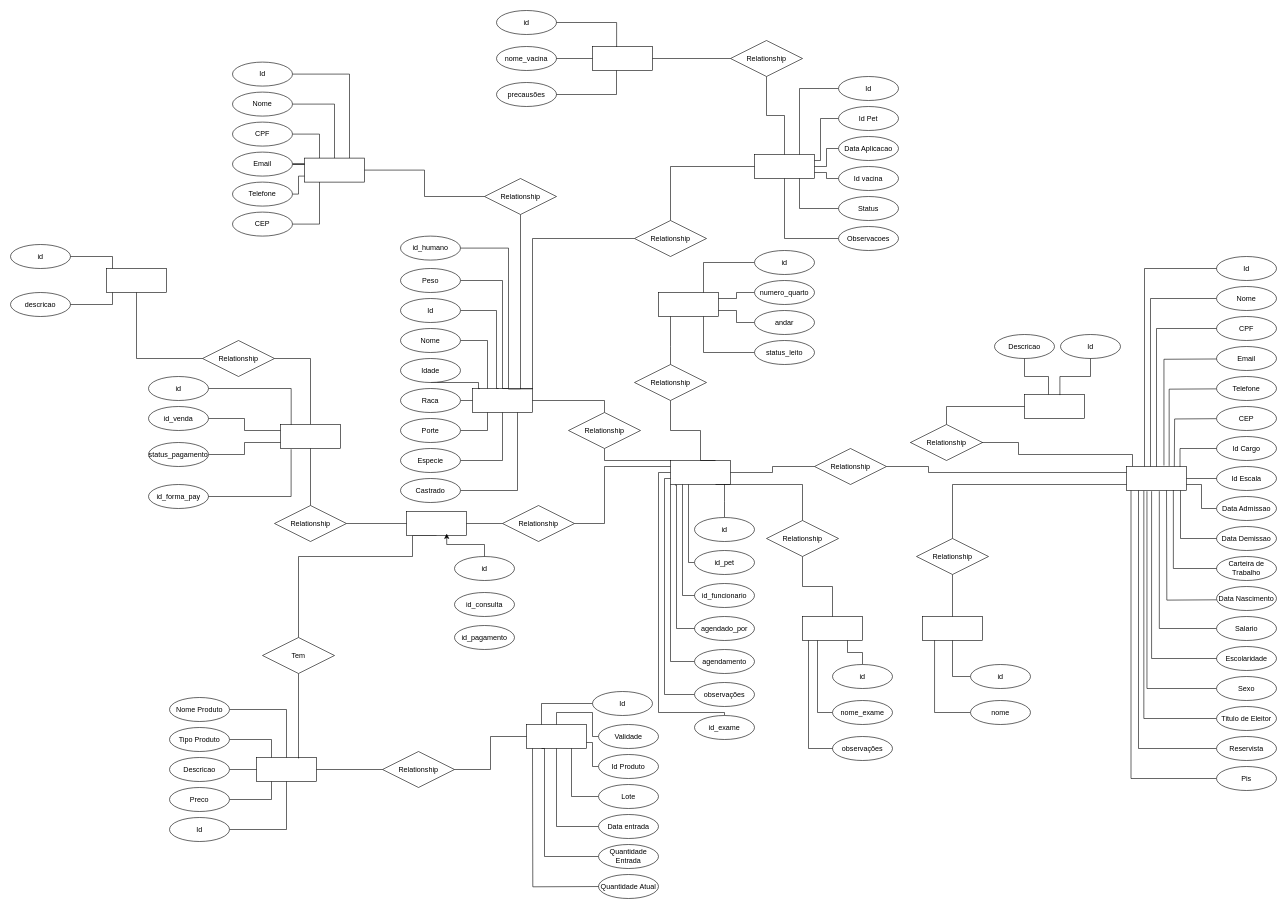
Image size: 1287x909. Some labels were removed from this diagram. The centre of each missing label's shape, as x and y in pixels:
"Cargo" belongs at point 1054,406.
"Carteira Vacina" belongs at point 784,166.
"Consultas" belongs at point 700,472.
"Escalas" belongs at point 952,628.
"Estoque" belongs at point 556,736.
"Exames" belongs at point 832,628.
"Forma de Pagamento" belongs at point 136,280.
"Funcionarios" belongs at point 1156,478.
"Humano" belongs at point 334,170.
"Leito" belongs at point 688,304.
"Pagamento" belongs at point 310,436.
"Pet" belongs at point 502,400.
"Produto" belongs at point 286,769.
"Vacina" belongs at point 622,58.
"Venda" belongs at point 436,523.
